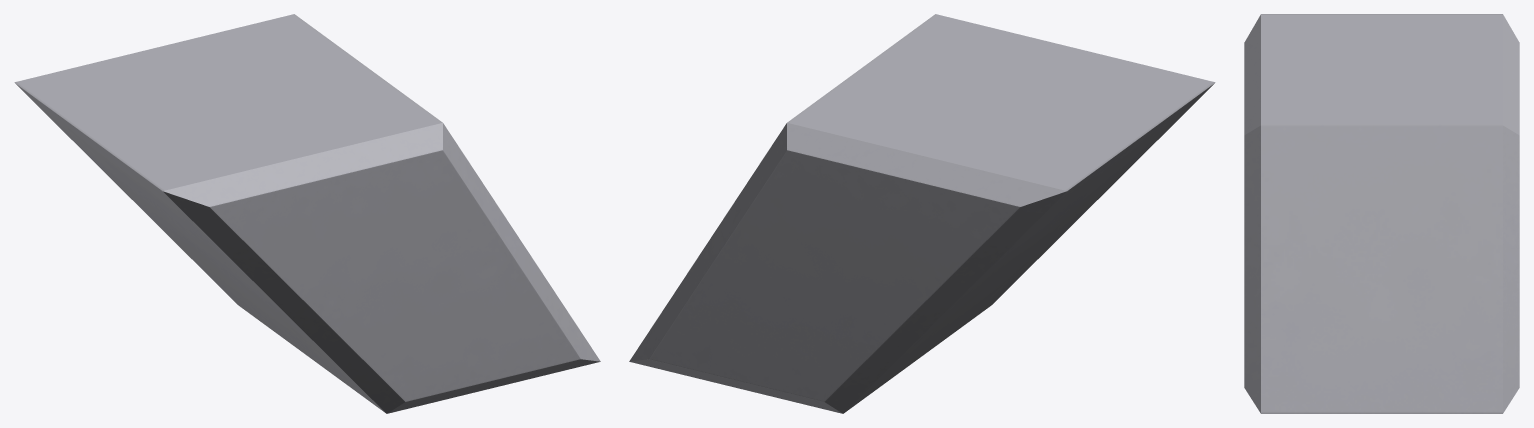
File: Grave.FBX
3 views of the same model, side by side, from view 1: azimuth 30°, elevation 25°; view 2: azimuth 150°, elevation 25°; view 3: azimuth 270°, elevation 25° (orthographic). The views are drawn at different scales.
Visible parts, largest first — view 1: Grave; view 2: Grave; view 3: Grave.
Boxes of the visible parts, x1,y1,x2,y2 form: Grave: (14, 14, 600, 413); Grave: (629, 14, 1215, 413); Grave: (1244, 14, 1519, 413).
Size of the model in its own units: 49.38 by 29.88 by 33.
